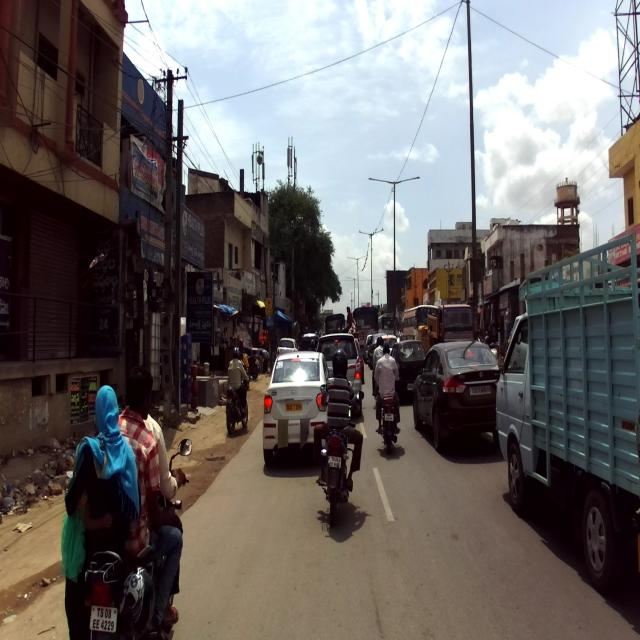Car_Hyundai: (260, 350, 330, 464)
Car_Maruti-Suzuki: (409, 340, 502, 451)
motorcycle_Hero: (83, 438, 192, 639), (319, 380, 364, 528)
motorcycle_bajaj: (223, 372, 251, 435)
truck: (495, 228, 639, 592)
